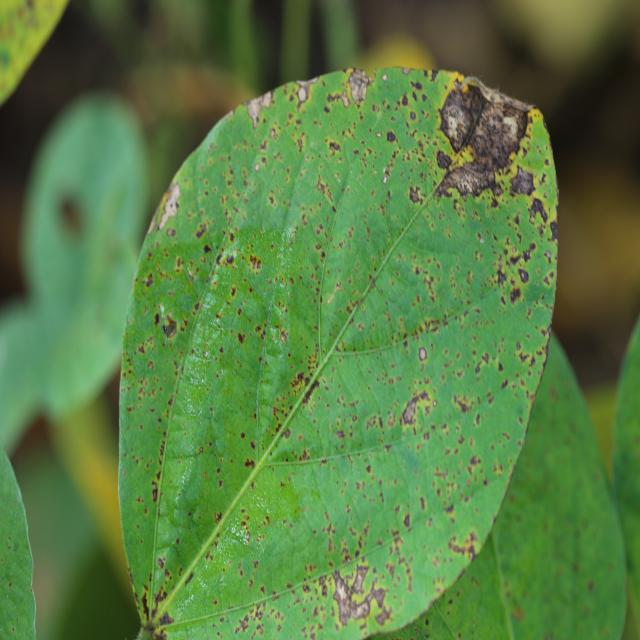Bacterial_Blight: (416, 371, 509, 505), (136, 241, 212, 351), (207, 481, 285, 579), (329, 114, 402, 206), (336, 455, 394, 534), (472, 98, 530, 172), (214, 143, 264, 219), (270, 364, 317, 439), (331, 566, 388, 627), (494, 241, 536, 301), (395, 312, 463, 344), (323, 68, 373, 110), (141, 583, 176, 630), (245, 311, 279, 356), (244, 89, 273, 129), (401, 391, 430, 425), (474, 350, 504, 380), (314, 173, 336, 210), (294, 77, 318, 107), (528, 196, 548, 224), (454, 394, 476, 414), (436, 149, 452, 170), (141, 593, 150, 620), (496, 267, 508, 287), (249, 254, 262, 272), (511, 605, 525, 620), (0, 48, 11, 67), (150, 481, 159, 503), (141, 272, 154, 287), (195, 223, 206, 239), (328, 141, 340, 154), (157, 555, 166, 570), (386, 130, 396, 143), (185, 572, 194, 585), (400, 93, 409, 106), (244, 458, 254, 469), (214, 511, 222, 524), (203, 244, 212, 254), (226, 254, 234, 265), (154, 312, 160, 325), (410, 111, 417, 121), (264, 513, 270, 524), (254, 163, 260, 171), (376, 131, 382, 138), (240, 432, 245, 439), (199, 447, 204, 454), (8, 544, 13, 550), (9, 582, 12, 588)
Soybean: (120, 69, 557, 638)
